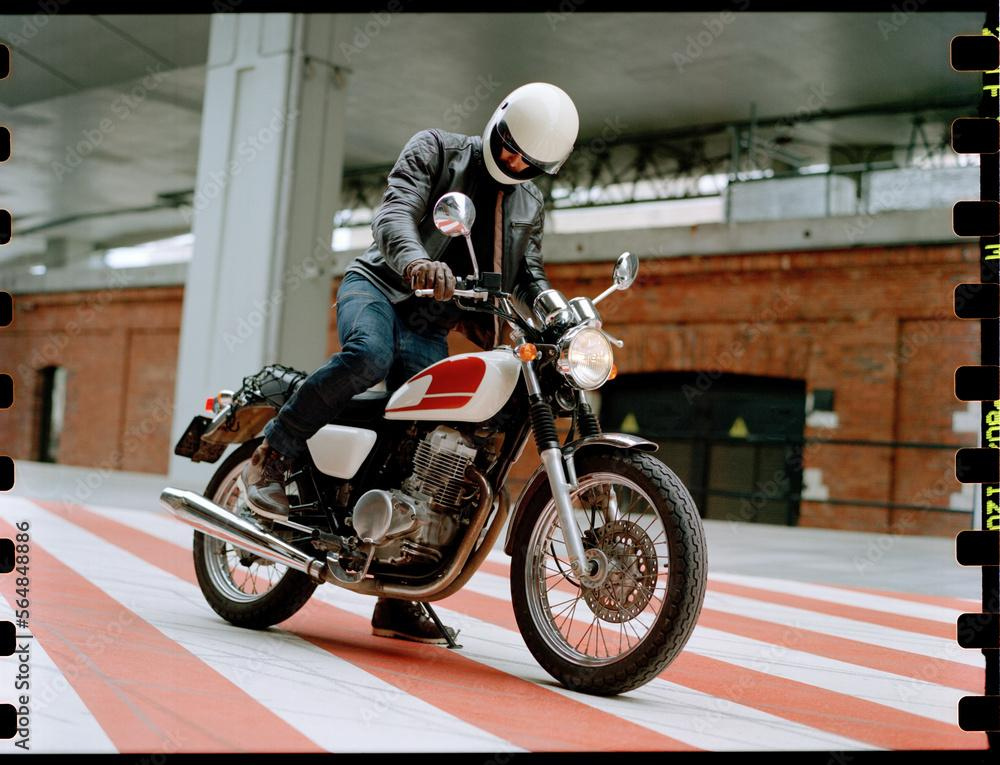helmet: (481, 81, 580, 186)
